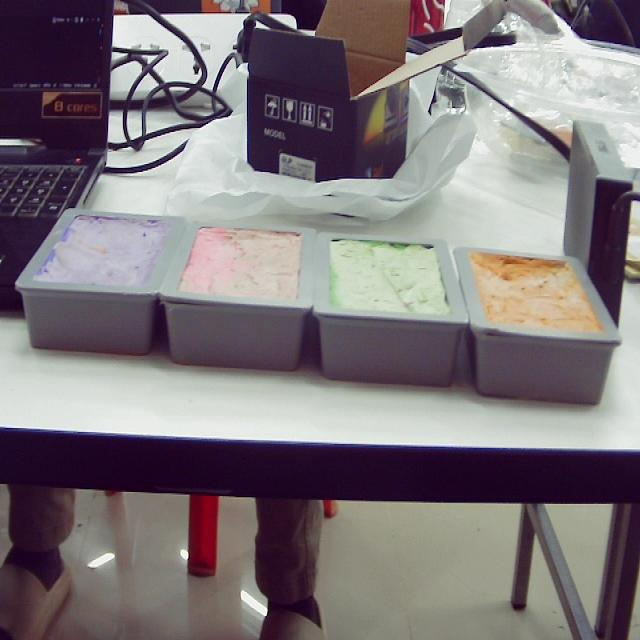block: (451, 248, 623, 404), (15, 209, 189, 356), (154, 220, 317, 371), (311, 235, 470, 388)
